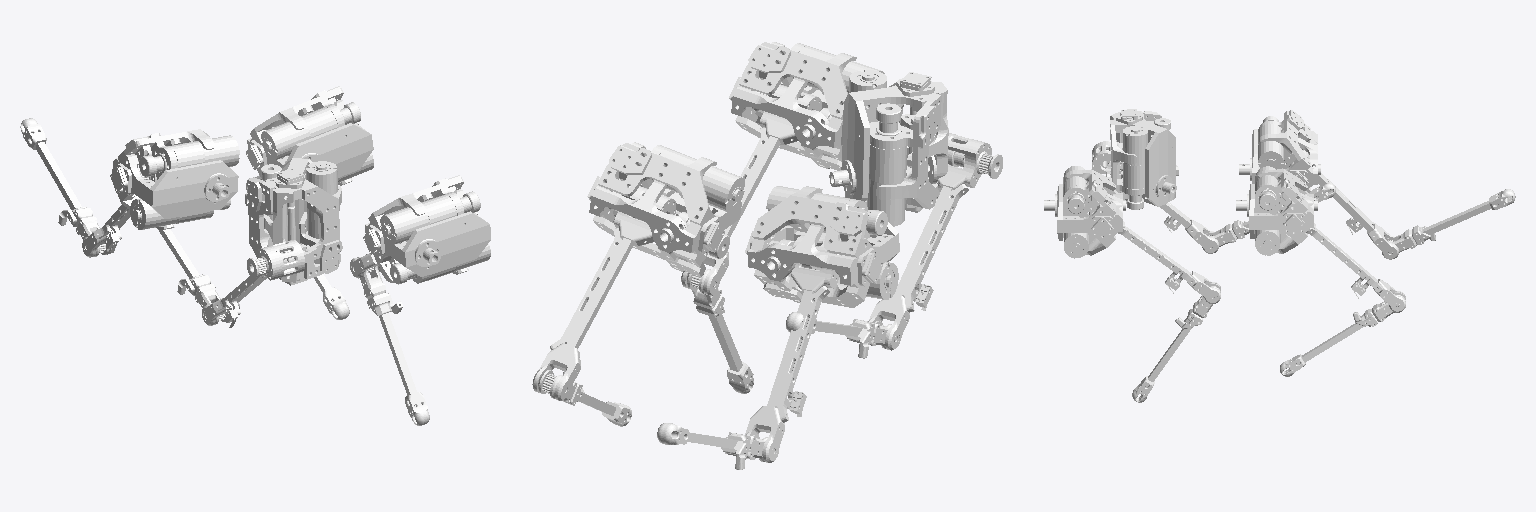
robot.urdf — dog_2:
<?xml version="1.0" encoding="utf-8"?>
<!-- This URDF was automatically created by SolidWorks to URDF Exporter! Originally created by [author] ([email redacted]) 
     Commit Version: 1.5.1-0-g916b5db  Build Version: 1.5.7152.31018
     For more information, please see http://wiki.ros.org/sw_urdf_exporter -->
<robot
  name="dog_2">
  <link
    name="dog_body">
    <inertial>
      <origin
        xyz="-8.3591E-08 0.0010717 0.00033885"
        rpy="0 0 0" />
      <mass
        value="0.41372" />
      <inertia
        ixx="0.00026854"
        ixy="-1.6836E-06"
        ixz="-9.0148E-10"
        iyy="0.00011738"
        iyz="4.6547E-07"
        izz="0.0003447" />
    </inertial>
    <visual>
      <origin
        xyz="0 0 0"
        rpy="0 0 0" />
      <geometry>
        <mesh
          filename="package://dog_2/meshes/dog_body.STL" />
      </geometry>
      <material
        name="">
        <color
          rgba="1 1 1 1" />
      </material>
    </visual>
    <collision>
      <origin
        xyz="0 0 0"
        rpy="0 0 0" />
      <geometry>
        <mesh
          filename="package://dog_2/meshes/dog_body.STL" />
      </geometry>
    </collision>
  </link>
  <link
    name="leg_ab_FL">
    <inertial>
      <origin
        xyz="0.050247 -0.017463 -0.00023921"
        rpy="0 0 0" />
      <mass
        value="0.6" />
      <inertia
        ixx="3.8003E-05"
        ixy="9.8297E-08"
        ixz="2.5794E-07"
        iyy="1.3729E-05"
        iyz="-4.2552E-07"
        izz="3.9203E-05" />
    </inertial>
    <visual>
      <origin
        xyz="0 0 0"
        rpy="0 0 0" />
      <geometry>
        <mesh
          filename="package://dog_2/meshes/leg_ab_FL.STL" />
      </geometry>
      <material
        name="">
        <color
          rgba="1 1 1 1" />
      </material>
    </visual>
    <collision>
      <origin
        xyz="0 0 0"
        rpy="0 0 0" />
      <geometry>
        <mesh
          filename="package://dog_2/meshes/leg_ab_FL.STL" />
      </geometry>
    </collision>
  </link>
  <joint
    name="joint_ab_FL"
    type="continuous">
    <origin
      xyz="0.04 -0.057117 -0.01"
      rpy="-3.0573 0 -1.5708" />
    <parent
      link="dog_body" />
    <child
      link="leg_ab_FL" />
    <axis
      xyz="1 0 0" />
    <limit
      lower="-1.57"
      upper="1.57"
      effort="2"
      velocity="3.14" />
  </joint>
  <link
    name="leg_hip_FL">
    <inertial>
      <origin
        xyz="0.00039075 -0.041882 -0.026623"
        rpy="0 0 0" />
      <mass
        value="0.05" />
      <inertia
        ixx="4.9969E-06"
        ixy="6.3426E-08"
        ixz="-3.2078E-09"
        iyy="6.9716E-07"
        iyz="-4.0831E-08"
        izz="5.1575E-06" />
    </inertial>
    <visual>
      <origin
        xyz="0 0 0"
        rpy="0 0 0" />
      <geometry>
        <mesh
          filename="package://dog_2/meshes/leg_hip_FL.STL" />
      </geometry>
      <material
        name="">
        <color
          rgba="1 1 1 1" />
      </material>
    </visual>
    <collision>
      <origin
        xyz="0 0 0"
        rpy="0 0 0" />
      <geometry>
        <mesh
          filename="package://dog_2/meshes/leg_hip_FL.STL" />
      </geometry>
    </collision>
  </link>
  <joint
    name="joint_hip_FL"
    type="continuous">
    <origin
      xyz="0.032133 0.001062 0"
      rpy="-1.5708 -0.92149 0" />
    <parent
      link="leg_ab_FL" />
    <child
      link="leg_hip_FL" />
    <axis
      xyz="0 0 1" />
    <limit
      lower="0"
      upper="1.57"
      effort="2"
      velocity="3.14" />
  </joint>
  <link
    name="leg_knee_FL">
    <inertial>
      <origin
        xyz="-0.018079 -0.049653 -0.00032046"
        rpy="0 0 0" />
      <mass
        value="0.05" />
      <inertia
        ixx="2.513E-06"
        ixy="2.0041E-08"
        ixz="-9.4607E-10"
        iyy="1.6234E-07"
        iyz="-1.0125E-08"
        izz="2.4283E-06" />
    </inertial>
    <visual>
      <origin
        xyz="0 0 0"
        rpy="0 0 0" />
      <geometry>
        <mesh
          filename="package://dog_2/meshes/leg_knee_FL.STL" />
      </geometry>
      <material
        name="">
        <color
          rgba="1 1 1 1" />
      </material>
    </visual>
    <collision>
      <origin
        xyz="0 0 0"
        rpy="0 0 0" />
      <geometry>
        <mesh
          filename="package://dog_2/meshes/leg_knee_FL.STL" />
      </geometry>
    </collision>
  </link>
  <joint
    name="joint_knee_FL"
    type="continuous">
    <origin
      xyz="0 -0.13 -0.007153"
      rpy="1.5126 -1.5708 0" />
    <parent
      link="leg_hip_FL" />
    <child
      link="leg_knee_FL" />
    <axis
      xyz="1 0 0" />
    <limit
      lower="0"
      upper="1.57"
      effort="2"
      velocity="3.14" />
  </joint>
  <link
    name="leg_ab_FR">
    <inertial>
      <origin
        xyz="-0.017463 -0.040247 0.00023922"
        rpy="0 0 0" />
      <mass
        value="0.6" />
      <inertia
        ixx="1.3729E-05"
        ixy="-9.8291E-08"
        ixz="4.2553E-07"
        iyy="3.8004E-05"
        iyz="2.5795E-07"
        izz="3.9203E-05" />
    </inertial>
    <visual>
      <origin
        xyz="0 0 0"
        rpy="0 0 0" />
      <geometry>
        <mesh
          filename="package://dog_2/meshes/leg_ab_FR.STL" />
      </geometry>
      <material
        name="">
        <color
          rgba="1 1 1 1" />
      </material>
    </visual>
    <collision>
      <origin
        xyz="0 0 0"
        rpy="0 0 0" />
      <geometry>
        <mesh
          filename="package://dog_2/meshes/leg_ab_FR.STL" />
      </geometry>
    </collision>
  </link>
  <joint
    name="joint_ab_FR"
    type="continuous">
    <origin
      xyz="-0.04 -0.064117 -0.01"
      rpy="0 -0.029087 0" />
    <parent
      link="dog_body" />
    <child
      link="leg_ab_FR" />
    <axis
      xyz="0 1 0" />
    <limit
      lower="-1.57"
      upper="1.57"
      effort="2"
      velocity="3.14" />
  </joint>
  <link
    name="leg_hip_FR">
    <inertial>
      <origin
        xyz="0.00039073 -0.041882 0.020344"
        rpy="0 0 0" />
      <mass
        value="0.05" />
      <inertia
        ixx="4.997E-06"
        ixy="6.3421E-08"
        ixz="3.208E-09"
        iyy="6.9716E-07"
        iyz="4.0832E-08"
        izz="5.1575E-06" />
    </inertial>
    <visual>
      <origin
        xyz="0 0 0"
        rpy="0 0 0" />
      <geometry>
        <mesh
          filename="package://dog_2/meshes/leg_hip_FR.STL" />
      </geometry>
      <material
        name="">
        <color
          rgba="1 1 1 1" />
      </material>
    </visual>
    <collision>
      <origin
        xyz="0 0 0"
        rpy="0 0 0" />
      <geometry>
        <mesh
          filename="package://dog_2/meshes/leg_hip_FR.STL" />
      </geometry>
    </collision>
  </link>
  <joint
    name="joint_ab_FR"
    type="continuous">
    <origin
      xyz="-0.0052168 -0.022133 0"
      rpy="1.5708 0.86232 -1.5708" />
    <parent
      link="leg_ab_FR" />
    <child
      link="leg_hip_FR" />
    <axis
      xyz="0 0 1" />
    <limit
      lower="0"
      upper="1.57"
      effort="2"
      velocity="3.14" />
  </joint>
  <link
    name="leg_knee_FR">
    <inertial>
      <origin
        xyz="-0.011813 -0.049654 0.00032045"
        rpy="0 0 0" />
      <mass
        value="0.05" />
      <inertia
        ixx="2.513E-06"
        ixy="2.0038E-08"
        ixz="9.4885E-10"
        iyy="1.6234E-07"
        iyz="1.0122E-08"
        izz="2.4283E-06" />
    </inertial>
    <visual>
      <origin
        xyz="0 0 0"
        rpy="0 0 0" />
      <geometry>
        <mesh
          filename="package://dog_2/meshes/leg_knee_FR.STL" />
      </geometry>
      <material
        name="">
        <color
          rgba="1 1 1 1" />
      </material>
    </visual>
    <collision>
      <origin
        xyz="0 0 0"
        rpy="0 0 0" />
      <geometry>
        <mesh
          filename="package://dog_2/meshes/leg_knee_FR.STL" />
      </geometry>
    </collision>
  </link>
  <joint
    name="leg_knee_FR"
    type="continuous">
    <origin
      xyz="0 -0.13 0.0071399"
      rpy="1.1569 1.5708 0" />
    <parent
      link="leg_hip_FR" />
    <child
      link="leg_knee_FR" />
    <axis
      xyz="1 0 0" />
    <limit
      lower="0"
      upper="1.57"
      effort="2"
      velocity="3.14" />
  </joint>
  <link
    name="leg_ab_BL">
    <inertial>
      <origin
        xyz="-0.036386 -0.017463 -0.00023921"
        rpy="0 0 0" />
      <mass
        value="0.6" />
      <inertia
        ixx="3.8003E-05"
        ixy="9.8297E-08"
        ixz="2.5794E-07"
        iyy="1.3729E-05"
        iyz="-4.2552E-07"
        izz="3.9203E-05" />
    </inertial>
    <visual>
      <origin
        xyz="0 0 0"
        rpy="0 0 0" />
      <geometry>
        <mesh
          filename="package://dog_2/meshes/leg_ab_BL.STL" />
      </geometry>
      <material
        name="">
        <color
          rgba="1 1 1 1" />
      </material>
    </visual>
    <collision>
      <origin
        xyz="0 0 0"
        rpy="0 0 0" />
      <geometry>
        <mesh
          filename="package://dog_2/meshes/leg_ab_BL.STL" />
      </geometry>
    </collision>
  </link>
  <joint
    name="joint_ab_BL"
    type="continuous">
    <origin
      xyz="0.04 0.03625 -0.01"
      rpy="-2.999 0 -1.5708" />
    <parent
      link="dog_body" />
    <child
      link="leg_ab_BL" />
    <axis
      xyz="1 0 0" />
    <limit
      lower="-1.57"
      upper="1.57"
      effort="2"
      velocity="3.14" />
  </joint>
  <link
    name="leg_hip_BL">
    <inertial>
      <origin
        xyz="0.00039075 -0.041882 -0.034325"
        rpy="0 0 0" />
      <mass
        value="0.05" />
      <inertia
        ixx="4.9969E-06"
        ixy="6.3426E-08"
        ixz="-3.2077E-09"
        iyy="6.9716E-07"
        iyz="-4.0831E-08"
        izz="5.1575E-06" />
    </inertial>
    <visual>
      <origin
        xyz="0 0 0"
        rpy="0 0 0" />
      <geometry>
        <mesh
          filename="package://dog_2/meshes/leg_hip_BL.STL" />
      </geometry>
      <material
        name="">
        <color
          rgba="1 1 1 1" />
      </material>
    </visual>
    <collision>
      <origin
        xyz="0 0 0"
        rpy="0 0 0" />
      <geometry>
        <mesh
          filename="package://dog_2/meshes/leg_hip_BL.STL" />
      </geometry>
    </collision>
  </link>
  <joint
    name="leg_hip_BL"
    type="continuous">
    <origin
      xyz="-0.0545 0.0057637 0"
      rpy="-1.5708 -0.84468 0" />
    <parent
      link="leg_ab_BL" />
    <child
      link="leg_hip_BL" />
    <axis
      xyz="0 0 1" />
    <limit
      lower="0"
      upper="1.57"
      effort="2"
      velocity="3.14" />
  </joint>
  <link
    name="leg_knee_BL">
    <inertial>
      <origin
        xyz="-0.021571 -0.049653 -0.00032045"
        rpy="0 0 0" />
      <mass
        value="0.05" />
      <inertia
        ixx="2.513E-06"
        ixy="2.0041E-08"
        ixz="-9.4607E-10"
        iyy="1.6234E-07"
        iyz="-1.0125E-08"
        izz="2.4283E-06" />
    </inertial>
    <visual>
      <origin
        xyz="0 0 0"
        rpy="0 0 0" />
      <geometry>
        <mesh
          filename="package://dog_2/meshes/leg_knee_BL.STL" />
      </geometry>
      <material
        name="">
        <color
          rgba="1 1 1 1" />
      </material>
    </visual>
    <collision>
      <origin
        xyz="0 0 0"
        rpy="0 0 0" />
      <geometry>
        <mesh
          filename="package://dog_2/meshes/leg_knee_BL.STL" />
      </geometry>
    </collision>
  </link>
  <joint
    name="leg_knee_BL"
    type="continuous">
    <origin
      xyz="0 -0.13 -0.011362"
      rpy="0.69989 -1.5708 1.1484" />
    <parent
      link="leg_hip_BL" />
    <child
      link="leg_knee_BL" />
    <axis
      xyz="1 0 0" />
    <limit
      lower="0"
      upper="1.57"
      effort="2"
      velocity="3.14" />
  </joint>
  <link
    name="leg_ab_BR">
    <inertial>
      <origin
        xyz="-0.036386 -0.017463 0.00023921"
        rpy="0 0 0" />
      <mass
        value="0.6" />
      <inertia
        ixx="3.8004E-05"
        ixy="9.829E-08"
        ixz="-2.5795E-07"
        iyy="1.3729E-05"
        iyz="4.2553E-07"
        izz="3.9203E-05" />
    </inertial>
    <visual>
      <origin
        xyz="0 0 0"
        rpy="0 0 0" />
      <geometry>
        <mesh
          filename="package://dog_2/meshes/leg_ab_BR.STL" />
      </geometry>
      <material
        name="">
        <color
          rgba="1 1 1 1" />
      </material>
    </visual>
    <collision>
      <origin
        xyz="0 0 0"
        rpy="0 0 0" />
      <geometry>
        <mesh
          filename="package://dog_2/meshes/leg_ab_BR.STL" />
      </geometry>
    </collision>
  </link>
  <joint
    name="joint_ab_BR"
    type="continuous">
    <origin
      xyz="-0.04 0.03925 -0.01"
      rpy="-0.057938 0 -1.5708" />
    <parent
      link="dog_body" />
    <child
      link="leg_ab_BR" />
    <axis
      xyz="0 -1 0" />
    <limit
      lower="-1.57"
      upper="1.57"
      effort="2"
      velocity="3.14" />
  </joint>
  <link
    name="leg_hip_BR">
    <inertial>
      <origin
        xyz="0.00039073 -0.041882 0.016628"
        rpy="0 0 0" />
      <mass
        value="0.05" />
      <inertia
        ixx="4.997E-06"
        ixy="6.3421E-08"
        ixz="3.208E-09"
        iyy="6.9716E-07"
        iyz="4.0832E-08"
        izz="5.1575E-06" />
    </inertial>
    <visual>
      <origin
        xyz="0 0 0"
        rpy="0 0 0" />
      <geometry>
        <mesh
          filename="package://dog_2/meshes/leg_hip_BR.STL" />
      </geometry>
      <material
        name="">
        <color
          rgba="1 1 1 1" />
      </material>
    </visual>
    <collision>
      <origin
        xyz="0 0 0"
        rpy="0 0 0" />
      <geometry>
        <mesh
          filename="package://dog_2/meshes/leg_hip_BR.STL" />
      </geometry>
    </collision>
  </link>
  <joint
    name="joint_hip_BR"
    type="continuous">
    <origin
      xyz="-0.0545 -0.0089331 0"
      rpy="1.5708 0.73903 0" />
    <parent
      link="leg_ab_BR" />
    <child
      link="leg_hip_BR" />
    <axis
      xyz="0 0 1" />
    <limit
      lower="0"
      upper="1.57"
      effort="2"
      velocity="3.14" />
  </joint>
  <link
    name="leg_knee_BR">
    <inertial>
      <origin
        xyz="-0.0077059 -0.049654 0.00032045"
        rpy="0 0 0" />
      <mass
        value="0.05" />
      <inertia
        ixx="2.513E-06"
        ixy="2.0038E-08"
        ixz="9.4875E-10"
        iyy="1.6234E-07"
        iyz="1.0122E-08"
        izz="2.4283E-06" />
    </inertial>
    <visual>
      <origin
        xyz="0 0 0"
        rpy="0 0 0" />
      <geometry>
        <mesh
          filename="package://dog_2/meshes/leg_knee_BR.STL" />
      </geometry>
      <material
        name="">
        <color
          rgba="1 1 1 1" />
      </material>
    </visual>
    <collision>
      <origin
        xyz="0 0 0"
        rpy="0 0 0" />
      <geometry>
        <mesh
          filename="package://dog_2/meshes/leg_knee_BR.STL" />
      </geometry>
    </collision>
  </link>
  <joint
    name="leg_knee_BR"
    type="continuous">
    <origin
      xyz="0 -0.13 0.0075308"
      rpy="1.2878 1.5708 0" />
    <parent
      link="leg_hip_BR" />
    <child
      link="leg_knee_BR" />
    <axis
      xyz="1 0 0" />
    <limit
      lower="0"
      upper="1.57"
      effort="2"
      velocity="3.14" />
  </joint>
</robot>

--- Render facts (derived) ---
3 views of the same robot in one strip: view 1: azimuth 30°, elevation 25°; view 2: azimuth 150°, elevation 25°; view 3: azimuth 270°, elevation 25° (orthographic).
Model dog_2 with 13 links and 12 joints (12 continuous), rooted at dog_body, posed all joints at 0.
Visible links, largest first — view 1: leg_ab_BR, leg_ab_FL, leg_ab_FR, leg_ab_BL, leg_hip_FR, leg_knee_FL, leg_knee_BR, leg_knee_FR, leg_hip_BR, leg_knee_BL; view 2: leg_ab_FR, leg_ab_BR, leg_ab_BL, leg_ab_FL, leg_hip_FR, leg_hip_BR, leg_hip_BL, leg_hip_FL, leg_knee_FL, leg_knee_BR, leg_knee_FR, leg_knee_BL; view 3: leg_ab_FR, leg_ab_FL, leg_ab_BL, leg_ab_BR, leg_knee_BR, leg_hip_FR, leg_hip_FL, leg_hip_BL, leg_hip_BR, leg_knee_BL, leg_knee_FL, leg_knee_FR.
Link boxes in pixels (bbox=[...]): leg_ab_BR: bbox=[110, 129, 239, 229]; leg_ab_FL: bbox=[363, 175, 490, 284]; leg_ab_FR: bbox=[245, 158, 342, 285]; leg_ab_BL: bbox=[246, 86, 373, 185]; leg_hip_FR: bbox=[202, 240, 304, 327]; leg_knee_FL: bbox=[357, 254, 429, 425]; leg_knee_BR: bbox=[20, 118, 109, 256]; leg_knee_FR: bbox=[157, 228, 225, 324]; leg_hip_BR: bbox=[82, 168, 156, 257]; leg_knee_BL: bbox=[314, 274, 349, 319]; leg_ab_FR: bbox=[829, 70, 948, 226]; leg_ab_BR: bbox=[745, 186, 899, 307]; leg_ab_BL: bbox=[587, 142, 744, 277]; leg_ab_FL: bbox=[729, 42, 884, 170]; leg_hip_FR: bbox=[868, 133, 1002, 350]; leg_hip_BR: bbox=[745, 235, 844, 462]; leg_hip_BL: bbox=[532, 186, 675, 400]; leg_hip_FL: bbox=[681, 84, 821, 294]; leg_knee_FL: bbox=[687, 269, 753, 393]; leg_knee_BR: bbox=[657, 423, 767, 469]; leg_knee_FR: bbox=[786, 312, 891, 358]; leg_knee_BL: bbox=[538, 370, 631, 426]; leg_ab_FR: bbox=[1106, 109, 1178, 209]; leg_ab_FL: bbox=[1044, 166, 1125, 258]; leg_ab_BL: bbox=[1236, 166, 1317, 255]; leg_ab_BR: bbox=[1239, 110, 1320, 192]; leg_knee_BR: bbox=[1386, 189, 1515, 252]; leg_hip_FR: bbox=[1092, 141, 1218, 253]; leg_hip_FL: bbox=[1089, 212, 1220, 303]; leg_hip_BL: bbox=[1280, 205, 1405, 312]; leg_hip_BR: bbox=[1283, 138, 1398, 259]; leg_knee_BL: bbox=[1280, 292, 1405, 376]; leg_knee_FL: bbox=[1132, 283, 1220, 402]; leg_knee_FR: bbox=[1206, 182, 1335, 246].
Size in the robot's own frame: 0.2086 by 0.4425 by 0.2438 metres.
Meshes: 13 distinct files referenced, 12 mesh visuals loaded (12 binary STL); not drawn: 1 (reference not matched to a file when rendering).